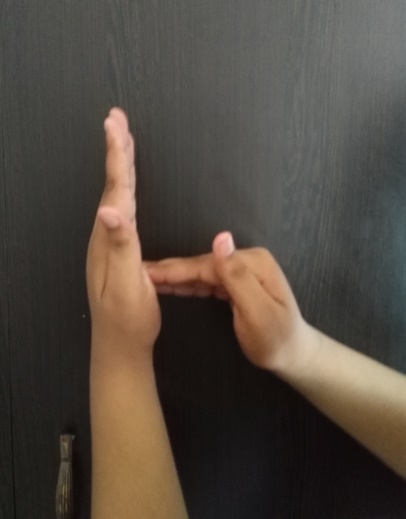ga: (82, 106, 308, 370)
